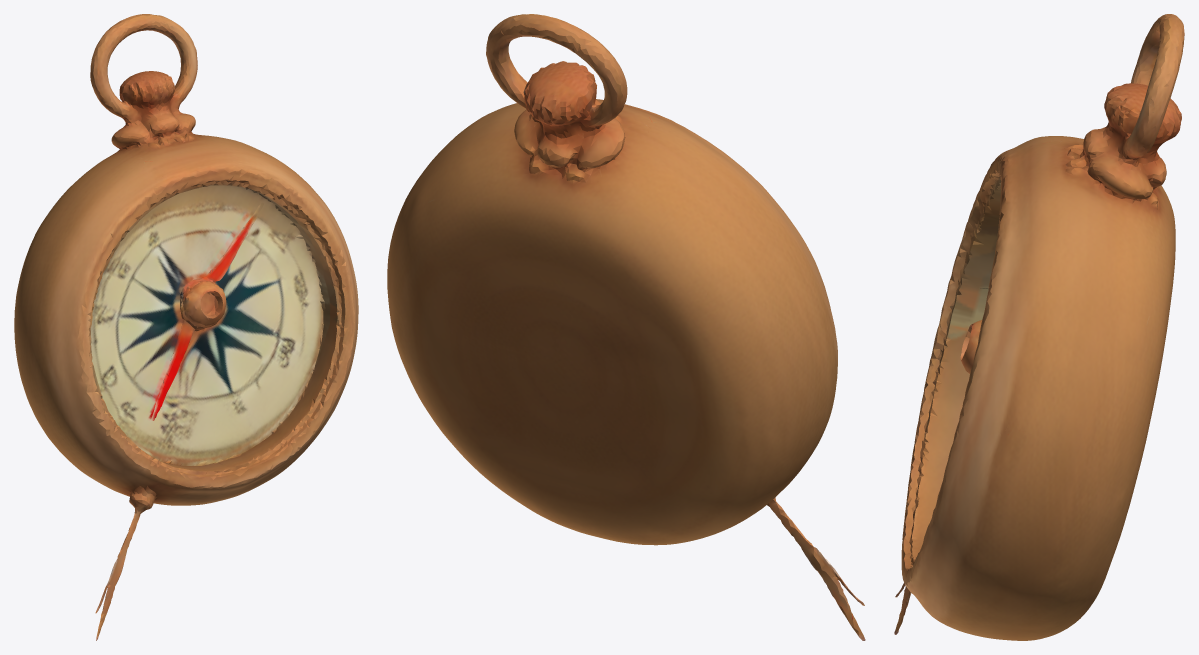
The picture shows the model from 3 angles, left to right: view 1: azimuth 30°, elevation 25°; view 2: azimuth 150°, elevation 25°; view 3: azimuth 270°, elevation 25°; orthographic projection. The views are drawn at different scales.
Parts seen in each view (by area): view 1: ButtonCompass; view 2: ButtonCompass; view 3: ButtonCompass.
Boxes of the visible parts, x1,y1,x2,y2 form: ButtonCompass: [14, 14, 358, 640]; ButtonCompass: [387, 14, 865, 640]; ButtonCompass: [894, 14, 1184, 640].
Size of the model in its own units: 1.22 by 1.9 by 0.7079.
1 material, 1 textured.
